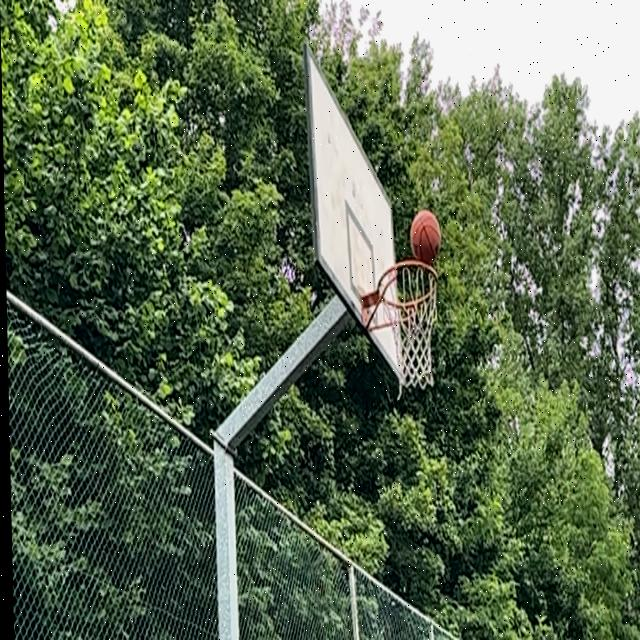rebound_hit: (410, 211, 441, 269)
